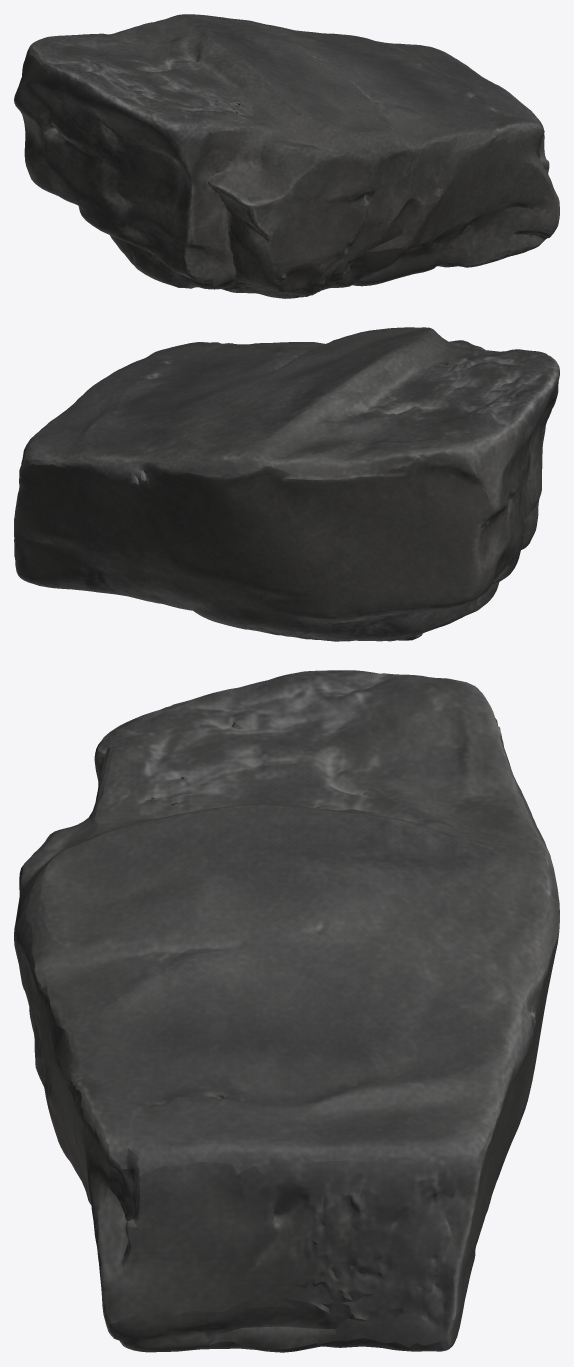
The model's file is tex_mesh.glb.
3 views of the same model, one above another, from view 1: azimuth 30°, elevation 25°; view 2: azimuth 150°, elevation 25°; view 3: azimuth 270°, elevation 25° (orthographic). The views are drawn at different scales.
Visible parts, largest first — view 1: world; view 2: world; view 3: world.
Part boxes in pixels (x1,y1,x2,y2): world: (14,14,559,298); world: (14,327,559,641); world: (14,670,559,1352).
Bounding box in the file's own units: 2.5 × 1.27 × 1.7.
Materials: 1 (1 with a texture image).
